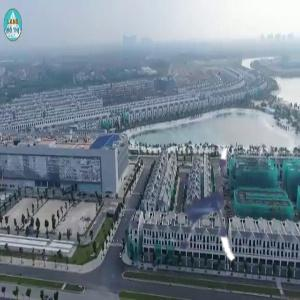drone: (149, 158, 272, 281)
